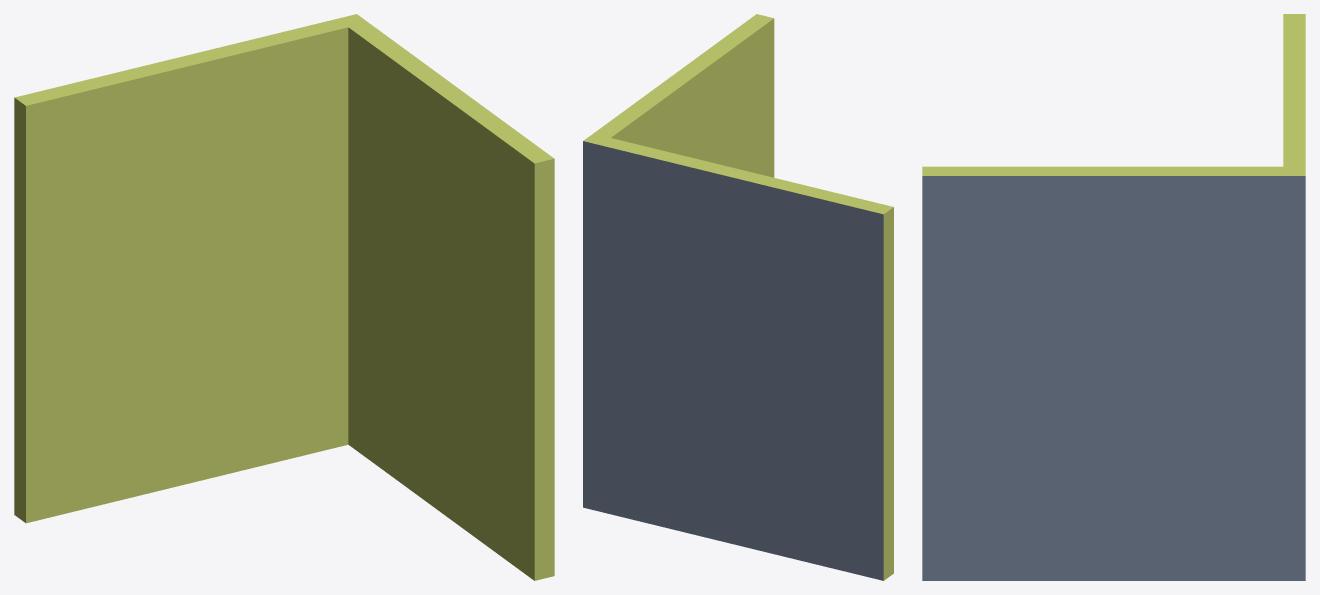
File: Wall3_C6_06.fbx
The picture shows the model from 3 angles, left to right: view 1: azimuth 30°, elevation 25°; view 2: azimuth 150°, elevation 25°; view 3: azimuth 270°, elevation 25°; orthographic projection. The views are drawn at different scales.
Visible parts, largest first — view 1: Wall3_C6_06; view 2: Wall3_C6_06; view 3: Wall3_C6_06.
Part boxes in pixels (x1=…): Wall3_C6_06: x1=14, y1=14, x2=554, y2=580; Wall3_C6_06: x1=583, y1=14, x2=893, y2=580; Wall3_C6_06: x1=922, y1=14, x2=1305, y2=580.
Bounding box in the file's own units: 258 × 300 × 258.
